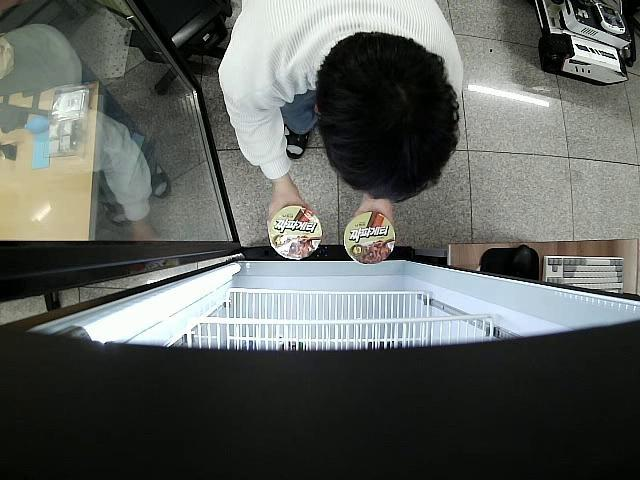03_chapagetti_L: (268, 206, 322, 260), (343, 212, 398, 264)
